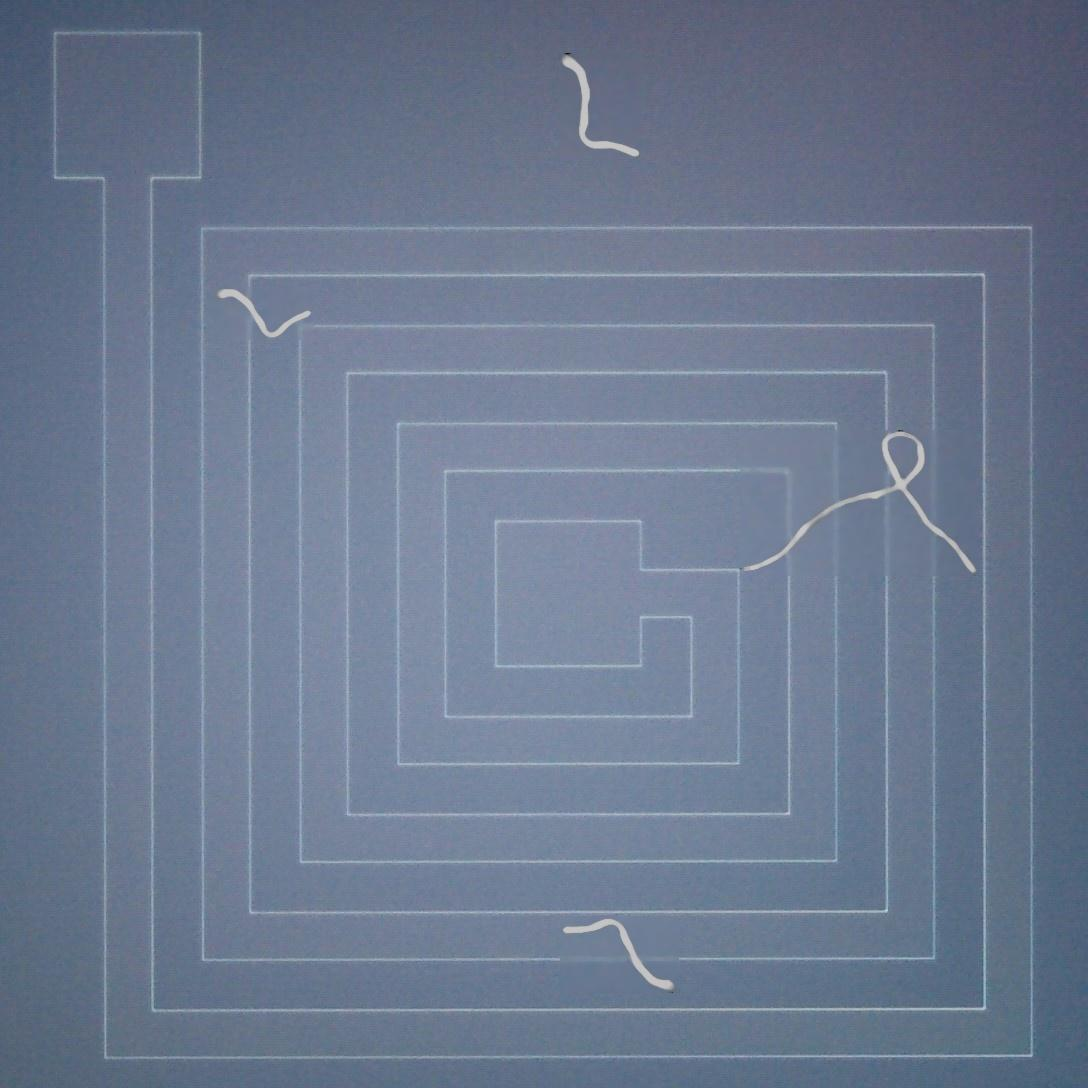foreign: (732, 428, 983, 577), (557, 911, 680, 997), (557, 48, 643, 164), (212, 283, 318, 342)
